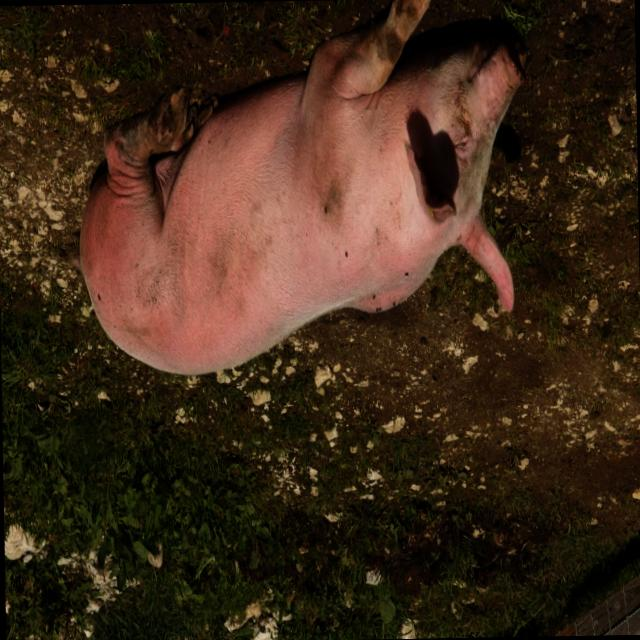pig: (79, 0, 521, 373)
